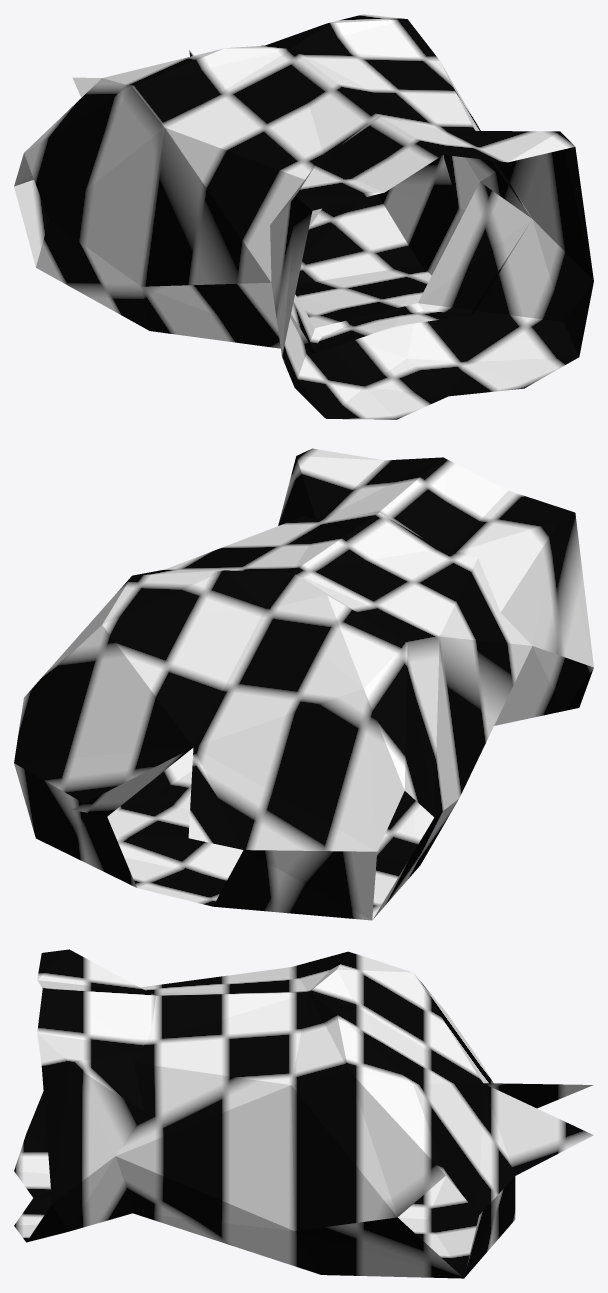
The model's file is initarsh3.dae.
3 views of the same model, one above another, from view 1: azimuth 30°, elevation 25°; view 2: azimuth 150°, elevation 25°; view 3: azimuth 270°, elevation 25° (orthographic). The views are drawn at different scales.
Parts seen in each view (by area): view 1: armor; view 2: armor; view 3: armor.
Boxes of the visible parts, bbox=[...] form: armor: bbox=[14, 14, 593, 419]; armor: bbox=[14, 448, 593, 920]; armor: bbox=[14, 949, 593, 1278].
Bounding box in the file's own units: 1.26 × 1.86 × 0.8158.
Materials: 1 (1 with a texture image).
